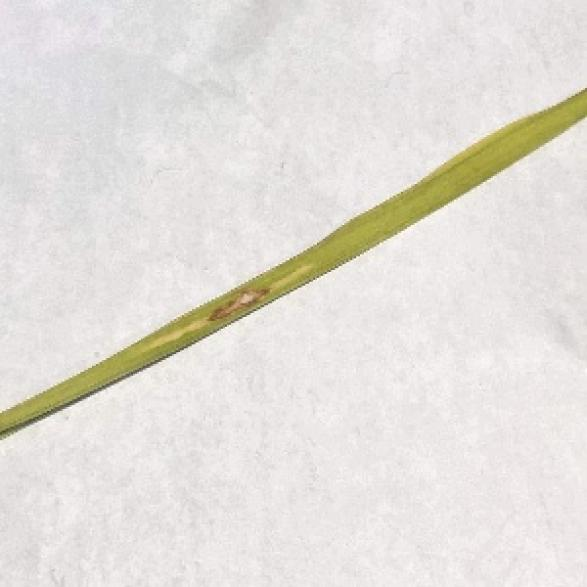Leaf_smut: (149, 258, 315, 346)
